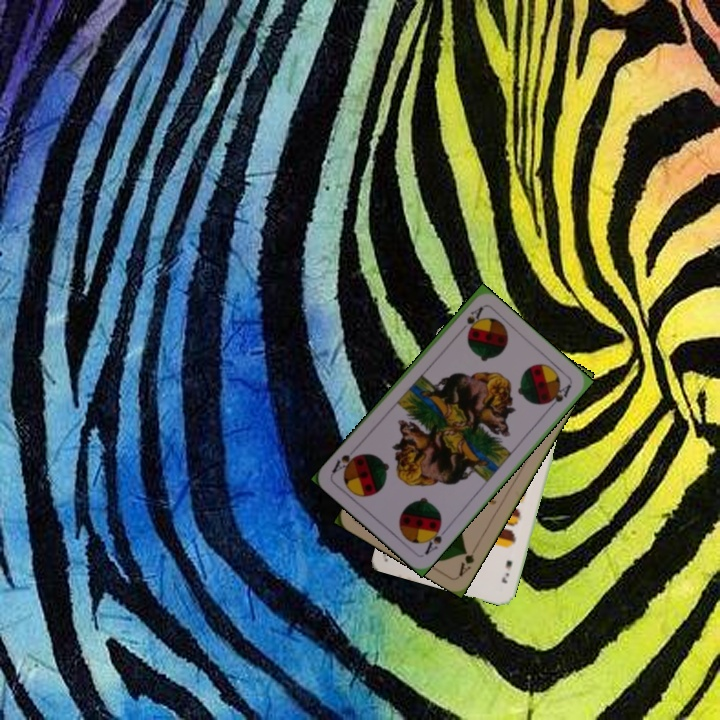E7: (498, 556, 515, 586)
GA: (455, 546, 477, 579)
SA: (420, 520, 450, 558), (454, 303, 485, 336)
